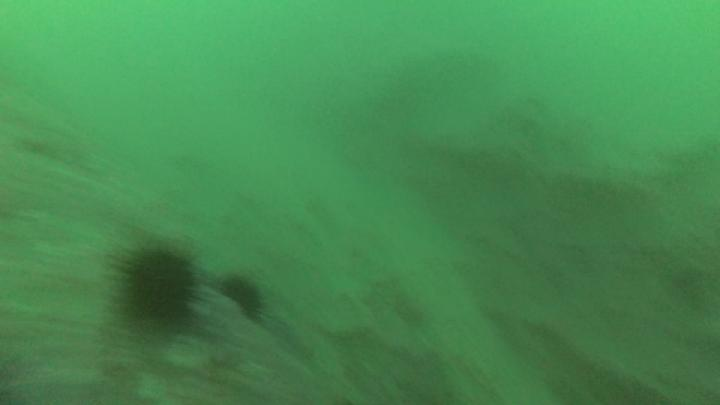echinus: (127, 249, 193, 323), (221, 276, 263, 316)
